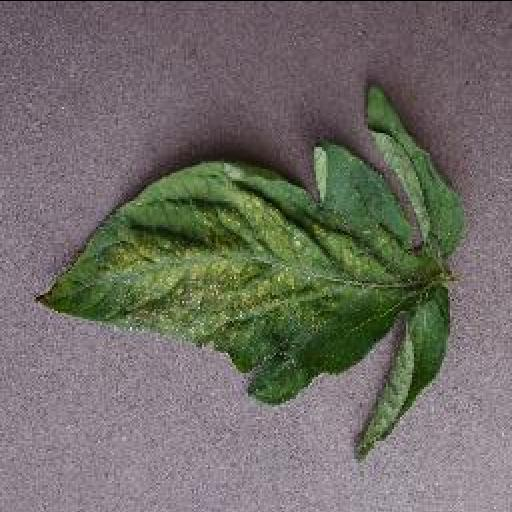disease_tomato: (34, 140, 418, 402)
